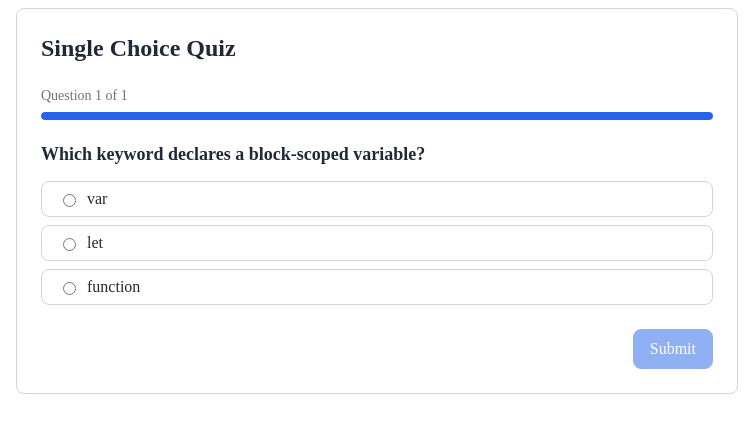
Test: Quiz › default finish page shows tier headline and score ring
Click the radio button labelled "let" at (70, 245), box [63,238,76,251]
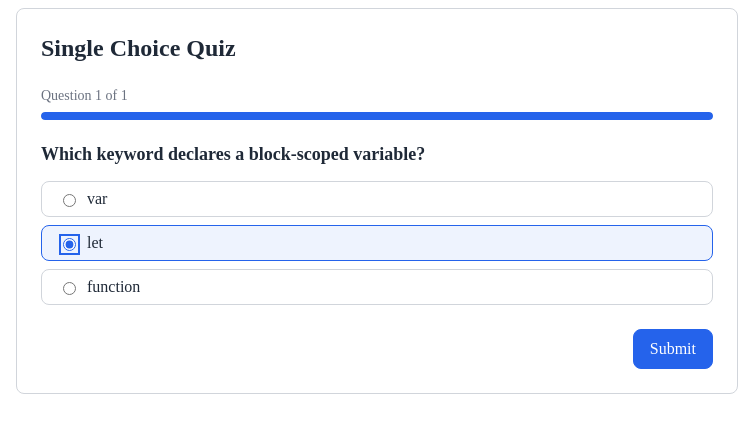
Click the button "Submit" at (673, 349), box [633,329,713,369]
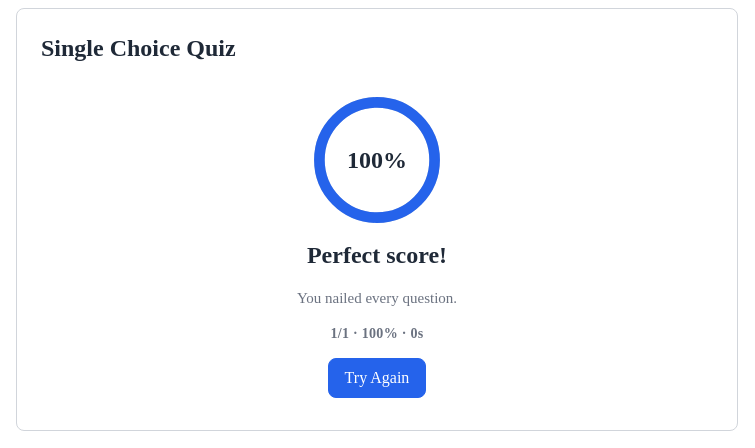
Check: the heading "Perfect score!" is shown, box [307,240,447,271]
Check: the text "100%" is shown, box [347,147,407,173]
